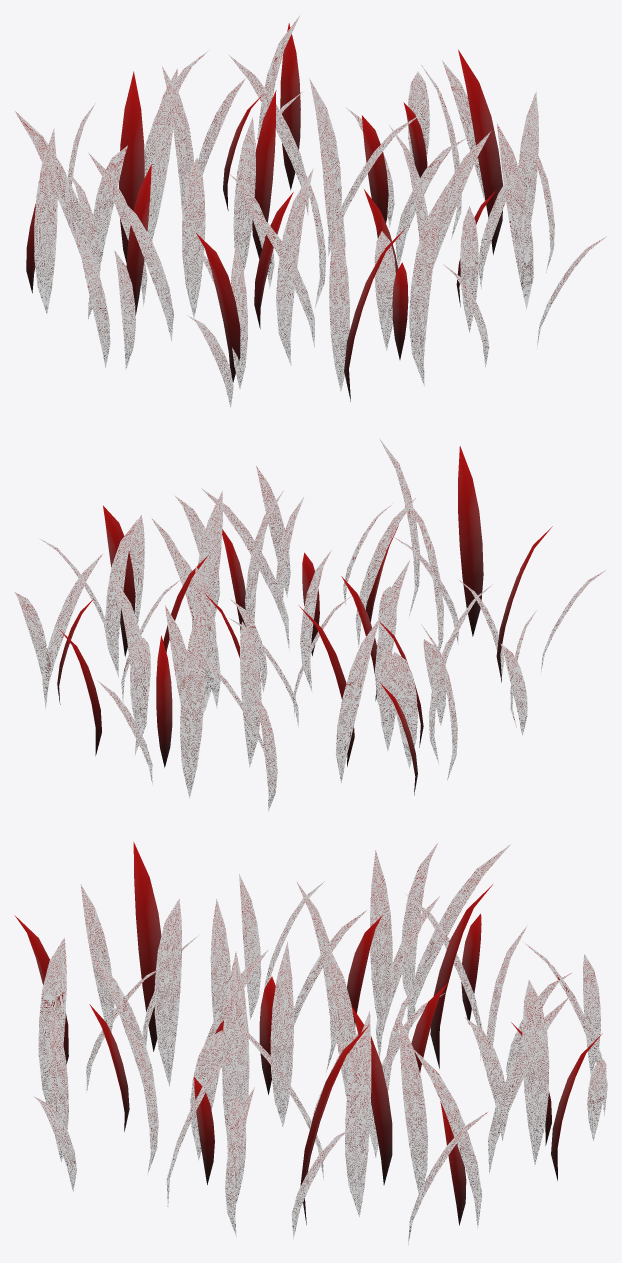
The model's file is Grass.fbx.
The picture shows the model from 3 angles, top to bottom: view 1: azimuth 30°, elevation 25°; view 2: azimuth 150°, elevation 25°; view 3: azimuth 270°, elevation 25°; orthographic projection. The views are drawn at different scales.
Parts seen in each view (by area): view 1: Grass; view 2: Grass; view 3: Grass.
Boxes of the visible parts, x1,y1,x2,y2 form: Grass: (14,15,606,408); Grass: (14,438,606,811); Grass: (14,842,607,1245).
Bounding box in the file's own units: 2.96 × 1.13 × 2.93.
